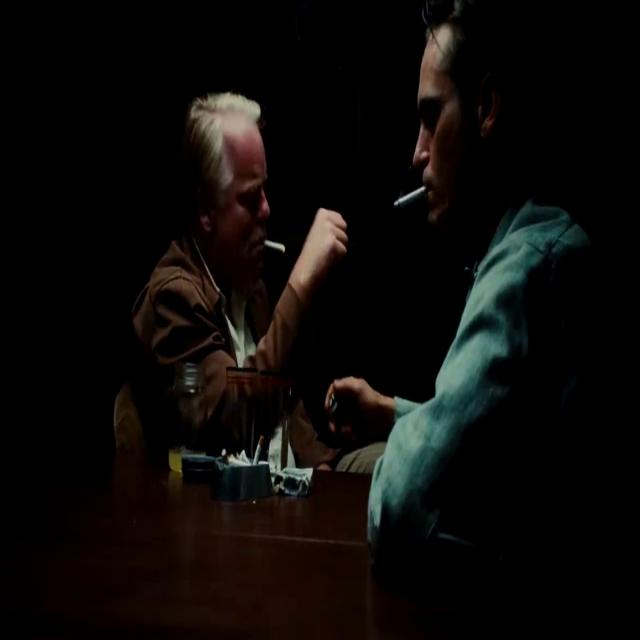Smooking: (380, 181, 430, 217), (258, 230, 290, 257)
